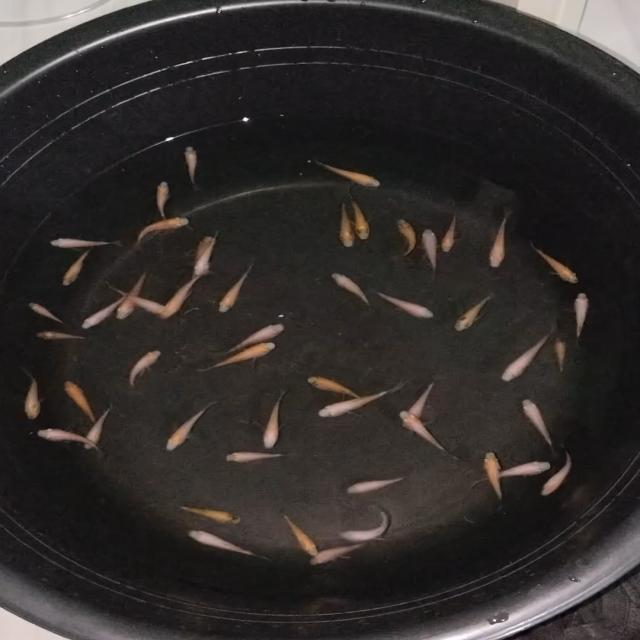nila: (316, 380, 406, 422), (393, 406, 459, 462), (196, 336, 283, 375), (184, 528, 272, 562), (501, 328, 557, 380), (473, 458, 552, 492), (275, 510, 322, 566), (164, 402, 214, 452), (218, 321, 288, 356), (519, 396, 559, 454), (530, 241, 582, 285), (160, 268, 204, 319), (310, 159, 386, 187), (216, 261, 256, 314), (35, 427, 105, 457), (338, 504, 394, 541), (474, 452, 512, 506), (111, 288, 178, 318), (376, 290, 436, 322), (538, 446, 576, 496), (134, 216, 194, 246), (260, 389, 288, 451), (308, 540, 370, 568), (454, 292, 494, 335), (175, 502, 246, 526), (400, 376, 434, 426), (81, 402, 114, 453), (330, 270, 373, 308), (486, 209, 512, 270), (116, 270, 148, 318), (388, 216, 420, 264), (127, 349, 163, 391), (80, 298, 126, 330), (344, 474, 410, 496), (62, 380, 97, 420), (417, 224, 442, 276), (306, 375, 362, 398), (570, 289, 592, 347), (348, 192, 374, 240), (60, 250, 90, 288), (197, 232, 220, 279), (21, 368, 42, 419), (338, 200, 360, 248), (436, 212, 459, 257), (222, 448, 291, 463), (26, 300, 64, 326), (46, 236, 120, 248), (32, 330, 94, 344), (182, 144, 199, 188), (154, 178, 171, 218), (192, 230, 212, 264), (554, 338, 570, 374)
